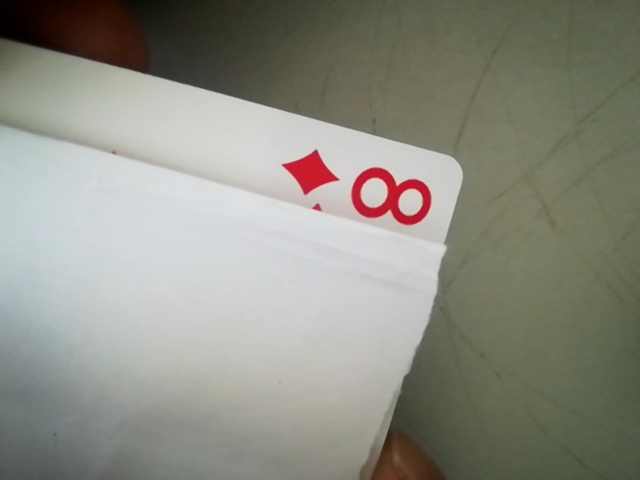fk 8: (306, 152, 444, 233)
